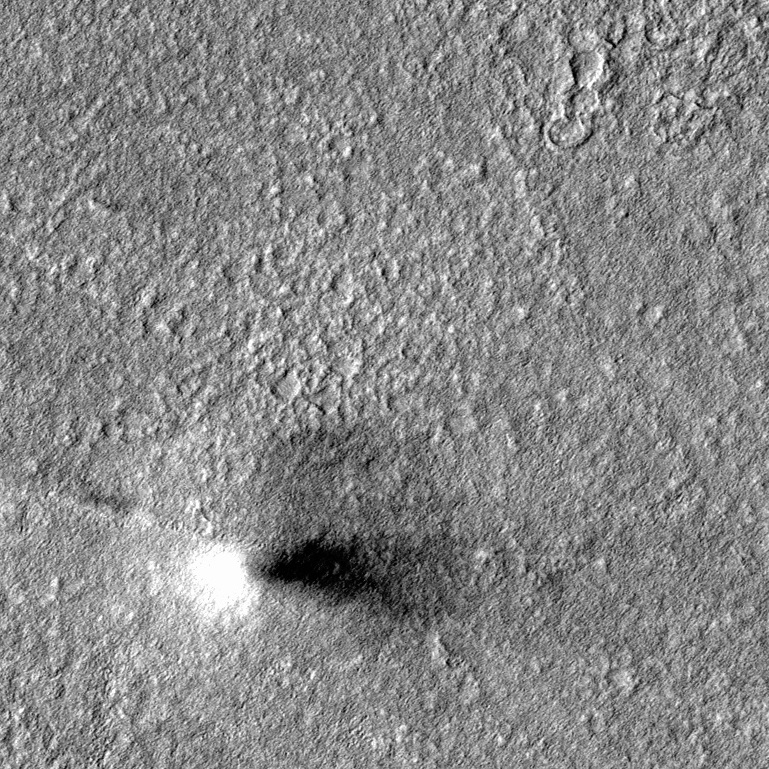dust_devil: (176, 528, 454, 628)
